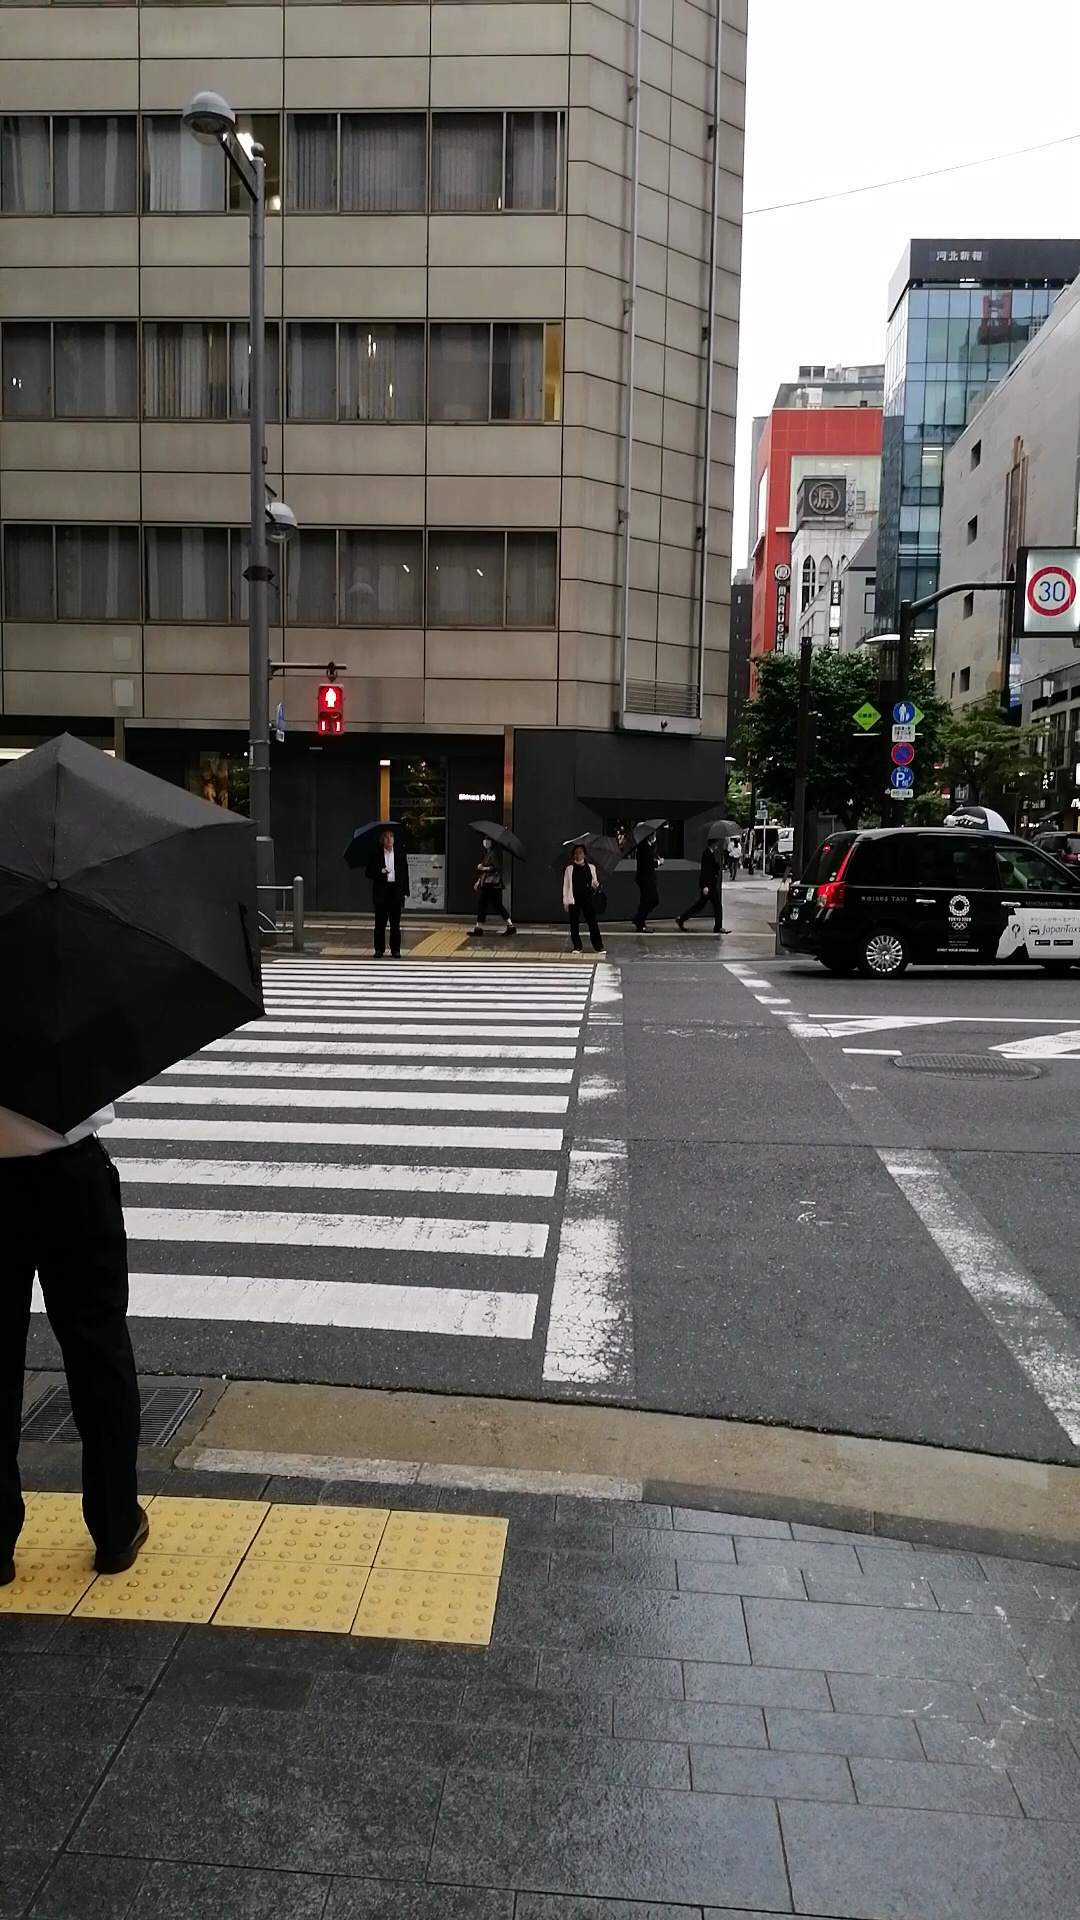red: (316, 683, 344, 737)
